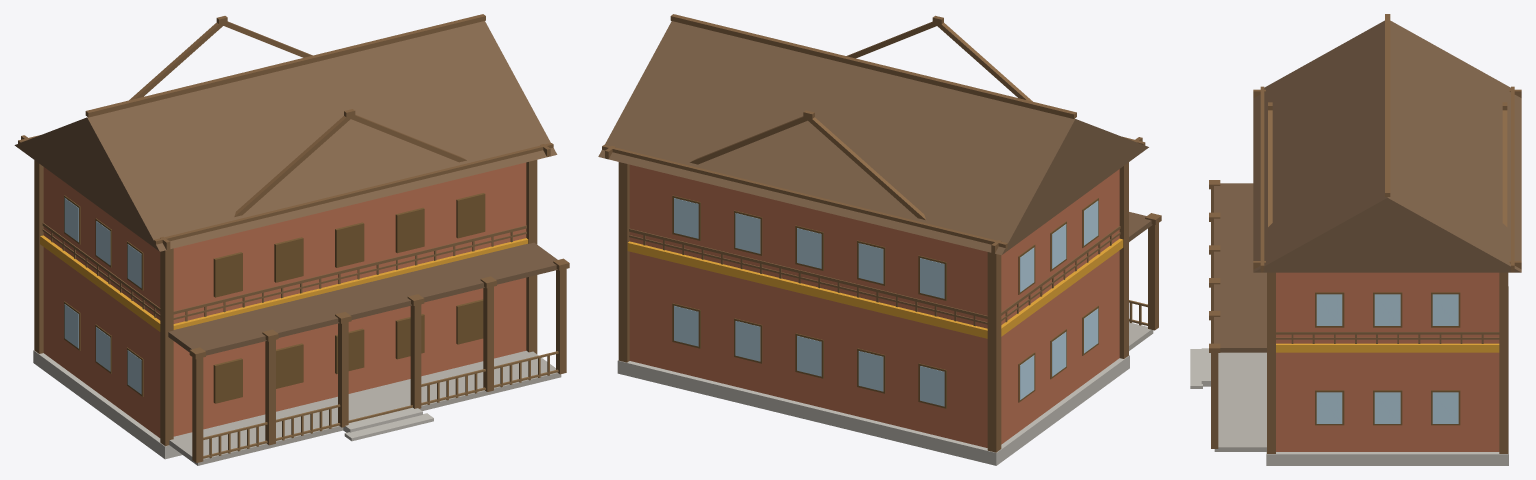
The model's file is kashmirihouse.fbx.
The picture shows the model from 3 angles, left to right: view 1: azimuth 30°, elevation 25°; view 2: azimuth 150°, elevation 25°; view 3: azimuth 270°, elevation 25°; orthographic projection. The views are drawn at different scales.
Parts seen in each view (by area): view 1: GableRoof, LowerStorey, UpperStorey, PorchRoofSlab, PorchFloor, RidgeBoard, Corner_-7.5_-4.5, Foundation, Eave_Front, Trim_Front, Corner_7.5_-4.5, Corner_-7.5_4.5 (+21 smaller); view 2: GableRoof, LowerStorey, UpperStorey, Foundation, Trim_Back, RidgeBoard, Corner_-7.5_4.5, Eave_Back, Corner_7.5_4.5, Corner_-7.5_-4.5, Trim_Left, GTop_Back (+12 smaller); view 3: GableRoof, LowerStorey, UpperStorey, PorchRoofSlab, PorchFloor, Foundation, Trim_Right, Corner_7.5_4.5, Corner_7.5_-4.5, RidgeBoard, Eave_Front, WGlass_RL_0 (+11 smaller).
Part boxes in pixels (x1=…): GableRoof: x1=14, y1=21, x2=557, y2=251; LowerStorey: x1=43, y1=247, x2=526, y2=437; UpperStorey: x1=43, y1=162, x2=526, y2=323; PorchRoofSlab: x1=168, y1=242, x2=557, y2=355; PorchFloor: x1=169, y1=350, x2=561, y2=465; RidgeBoard: x1=85, y1=14, x2=485, y2=117; Corner_-7.5_-4.5: x1=160, y1=248, x2=173, y2=446; Foundation: x1=33, y1=350, x2=182, y2=459; Eave_Front: x1=154, y1=143, x2=553, y2=248; Trim_Front: x1=173, y1=238, x2=528, y2=329; Corner_7.5_-4.5: x1=526, y1=160, x2=537, y2=353; Corner_-7.5_4.5: x1=34, y1=160, x2=43, y2=353; GableRoof: x1=598, y1=21, x2=1148, y2=255; LowerStorey: x1=629, y1=250, x2=1119, y2=447; UpperStorey: x1=629, y1=164, x2=1119, y2=328; Foundation: x1=617, y1=355, x2=1129, y2=465; Trim_Back: x1=627, y1=241, x2=987, y2=338; RidgeBoard: x1=670, y1=14, x2=1076, y2=118; Corner_-7.5_4.5: x1=987, y1=252, x2=1001, y2=452; Eave_Back: x1=602, y1=144, x2=1007, y2=251; Corner_7.5_4.5: x1=618, y1=162, x2=629, y2=362; Corner_-7.5_-4.5: x1=1119, y1=162, x2=1128, y2=358; Trim_Left: x1=1001, y1=238, x2=1123, y2=336; GTop_Back: x1=629, y1=228, x2=987, y2=318; GableRoof: x1=1253, y1=20, x2=1521, y2=272; LowerStorey: x1=1276, y1=352, x2=1499, y2=451; UpperStorey: x1=1276, y1=272, x2=1499, y2=343; PorchRoofSlab: x1=1214, y1=183, x2=1266, y2=352; PorchFloor: x1=1214, y1=352, x2=1266, y2=451; Foundation: x1=1266, y1=286, x2=1508, y2=465; Trim_Right: x1=1276, y1=343, x2=1499, y2=352; Corner_7.5_4.5: x1=1499, y1=272, x2=1508, y2=453; Corner_7.5_-4.5: x1=1267, y1=272, x2=1275, y2=453; RidgeBoard: x1=1385, y1=14, x2=1390, y2=196; Eave_Front: x1=1260, y1=86, x2=1264, y2=272; WGlass_RL_0: x1=1316, y1=392, x2=1342, y2=423.
Size of the model in its own units: 1640 by 1191 by 1285.
